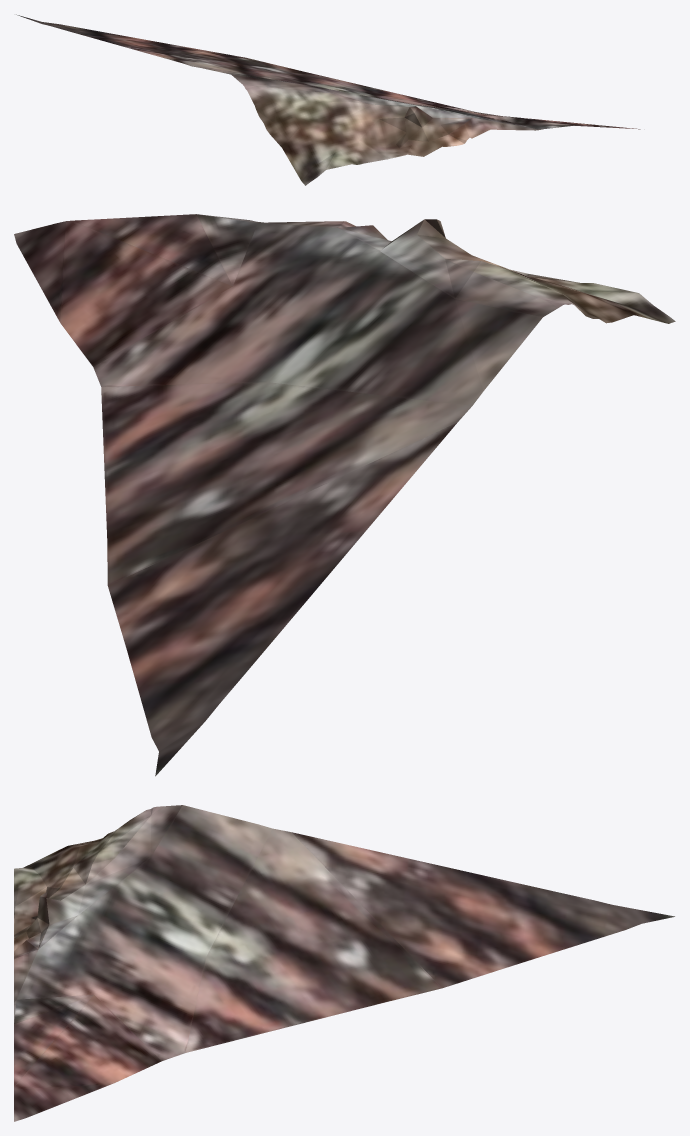
3 renders of one model, top to bottom at view 1: azimuth 30°, elevation 25°; view 2: azimuth 150°, elevation 25°; view 3: azimuth 270°, elevation 25°, orthographic. The views are drawn at different scales.
Size of the model in its own units: 1.21 by 0.3071 by 1.65.
1 material, 1 textured.
